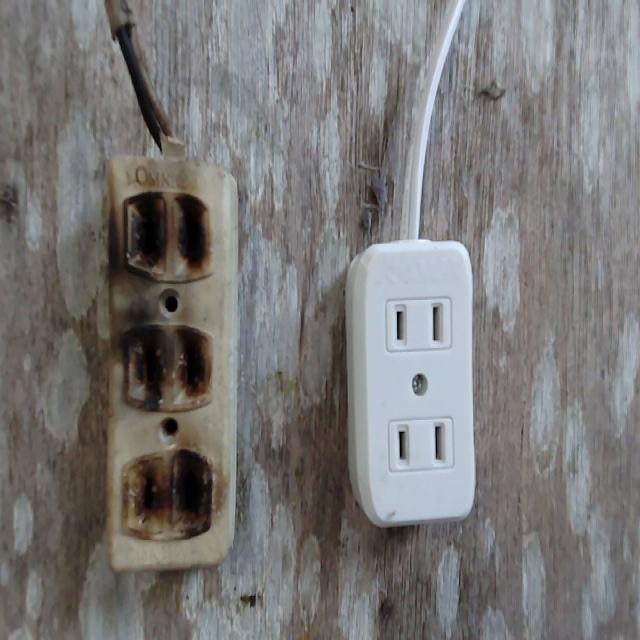-: (116, 184, 215, 540)
